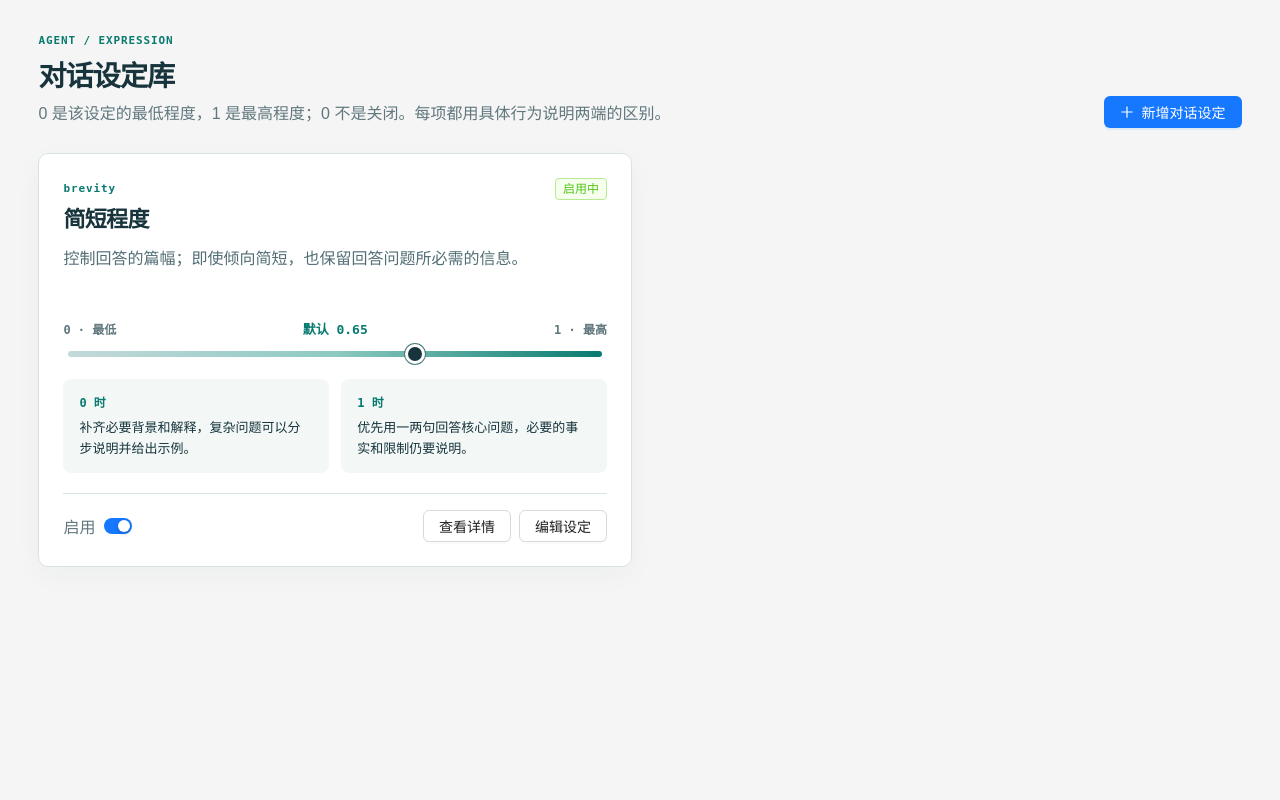
Test case: explains the preset and both ends of its 0–1 scale in the list and detail view
The width and height of the screenshot is (1280, 800).
Expected: the heading "简短程度" is shown, x1=63 y1=201 x2=149 y2=233
Expected: the text "控制回答的篇幅；即使倾向简短，也保留回答问题所必需的信息。" is shown, x1=63 y1=250 x2=527 y2=267
Step 1. Click the button "查看详情" → (467, 526), box x1=423 y1=510 x2=511 y2=542
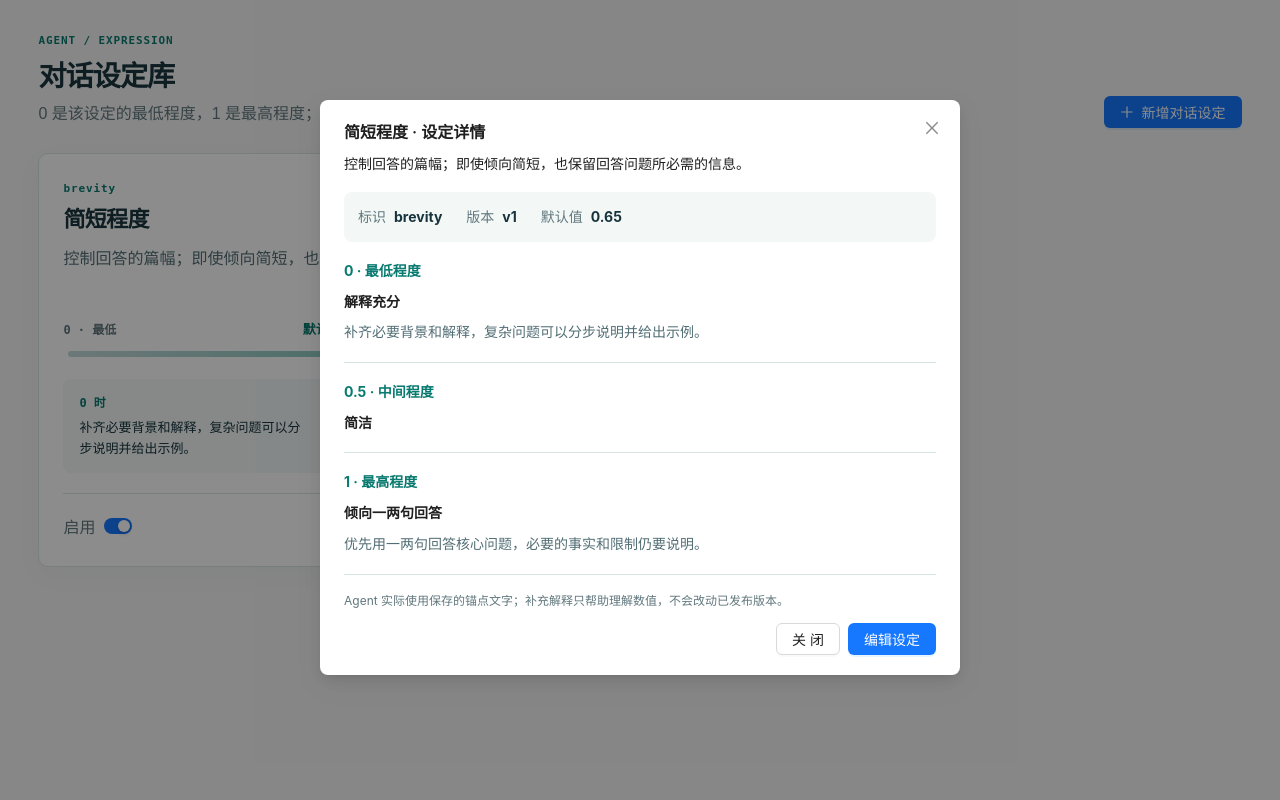
Now the text "解释充分" is shown, box x1=344 y1=293 x2=400 y2=310
Now the text "倾向一两句回答" is shown, box x1=344 y1=504 x2=442 y2=521
Now the text "补齐必要背景和解释，复杂问题可以分步说明并给出示例。" is shown, box x1=344 y1=323 x2=708 y2=340
